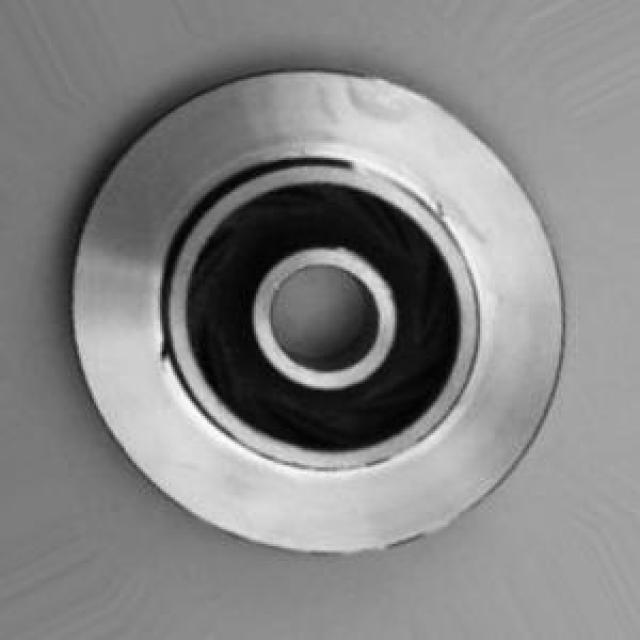Defect: (432, 184, 462, 230), (152, 336, 175, 373)
